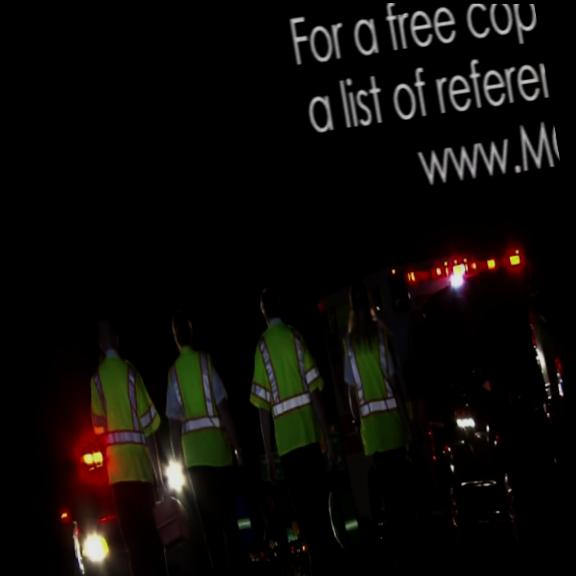safety_vest: (236, 318, 335, 459), (81, 349, 171, 494), (338, 321, 410, 455), (163, 341, 233, 474)
